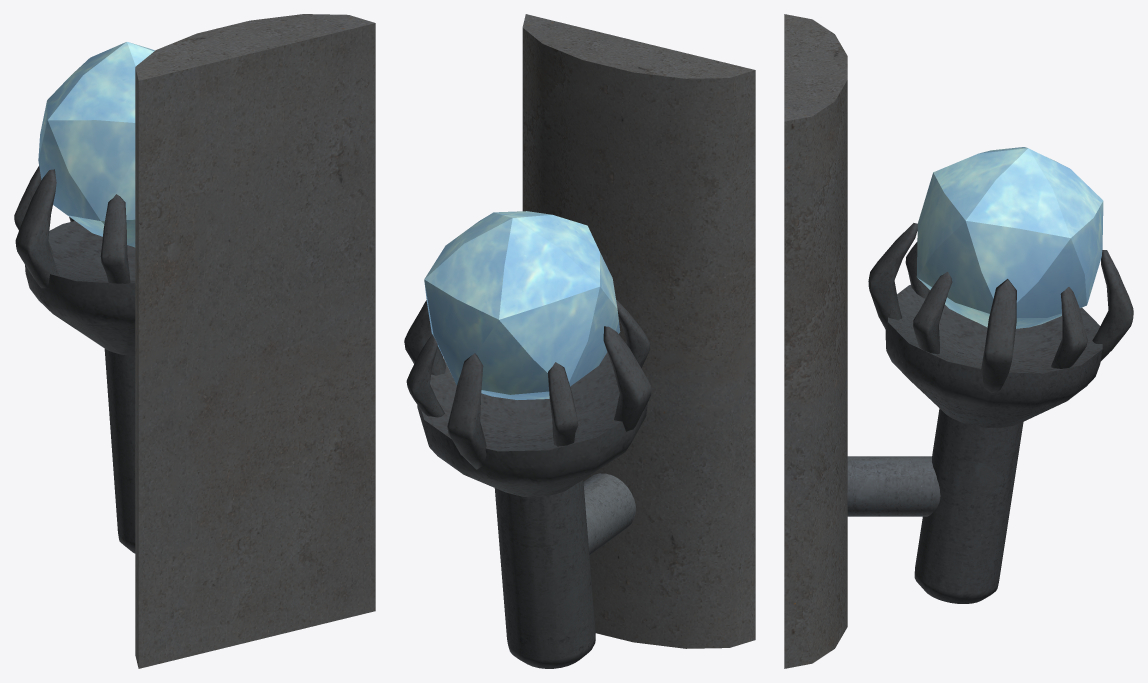
File: Torch.fbx
3 renders of one model, left to right at view 1: azimuth 30°, elevation 25°; view 2: azimuth 150°, elevation 25°; view 3: azimuth 270°, elevation 25°, orthographic. The views are drawn at different scales.
Parts seen in each view (by area): view 1: polySurface81; view 2: polySurface81; view 3: polySurface81.
Part boxes in pixels (x1,y1,x2,y2): polySurface81: (14, 14, 375, 668); polySurface81: (404, 14, 755, 668); polySurface81: (784, 14, 1133, 668).
Size of the model in its own units: 1.63 by 3.74 by 2.17.
